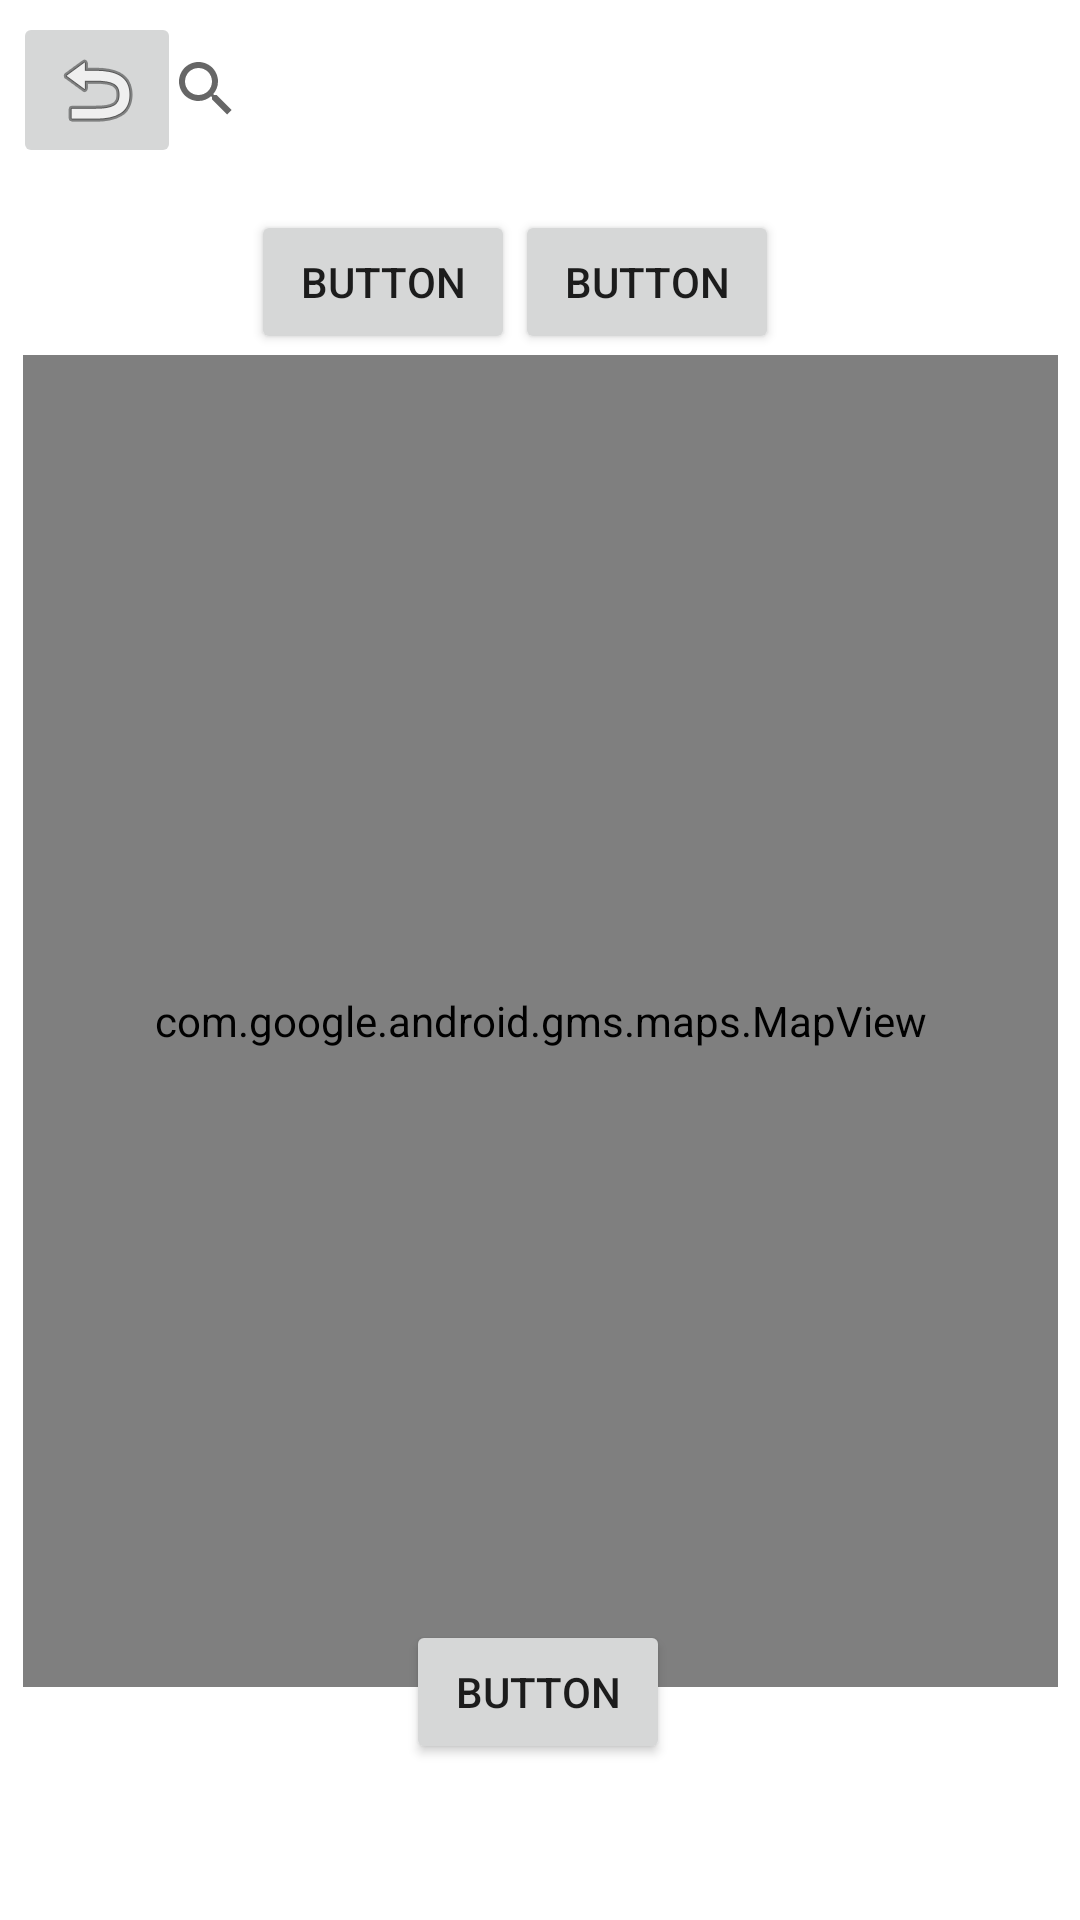

Named icons in this screenshot (1080*1920) and their centers, (x=x, y=y):
revert: (x=97, y=90)
